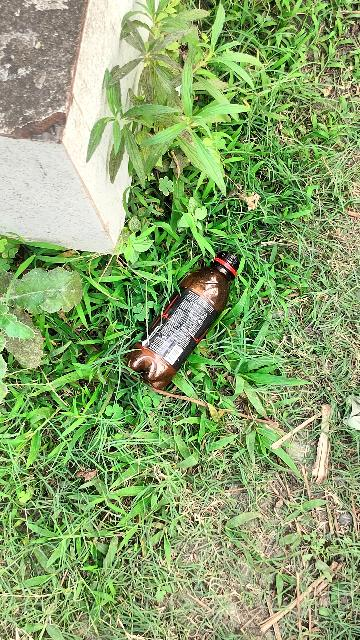bottle: (133, 243, 241, 402)
